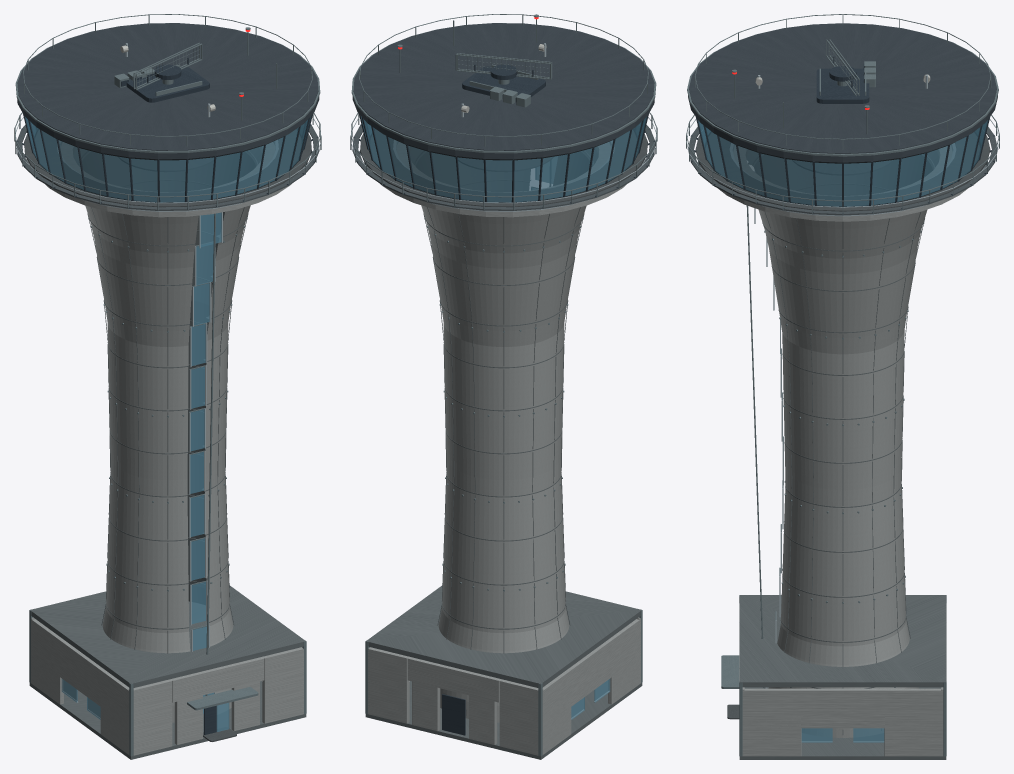
Rendered from AIR04_lod2.glb.
3 renders of one model, left to right at view 1: azimuth 30°, elevation 25°; view 2: azimuth 150°, elevation 25°; view 3: azimuth 270°, elevation 25°, orthographic. The views are drawn at different scales.
Visible parts, largest first — view 1: Structure__reinforced_concrete, Roof__roof_membrane, Facade__glass, Structure__concrete_dark, Roof__concrete_dark, Interior__dark_floor, Facade__concrete_dark, Roof__steel_highlight, Details__steel_highlight, Structure__grating, Facade__anodized_aluminum, Facade__painted_steel (+4 smaller); view 2: Structure__reinforced_concrete, Roof__roof_membrane, Facade__glass, Roof__concrete_dark, Interior__dark_floor, Facade__concrete_dark, Structure__concrete_dark, Roof__steel_highlight, Details__steel_highlight, Structure__grating, Facade__painted_steel, Roof__painted_steel (+3 smaller); view 3: Structure__reinforced_concrete, Roof__roof_membrane, Facade__glass, Roof__concrete_dark, Structure__concrete_dark, Interior__dark_floor, Facade__concrete_dark, Roof__steel_highlight, Details__steel_highlight, Structure__grating, Facade__painted_steel, Roof__painted_steel (+4 smaller).
Boxes of the visible parts, x1=… form: Structure__reinforced_concrete: x1=31, y1=142, x2=303, y2=755; Roof__roof_membrane: x1=17, y1=23, x2=319, y2=159; Facade__glass: x1=25, y1=116, x2=310, y2=719; Structure__concrete_dark: x1=29, y1=147, x2=306, y2=759; Roof__concrete_dark: x1=30, y1=585, x2=305, y2=687; Interior__dark_floor: x1=24, y1=130, x2=311, y2=207; Facade__concrete_dark: x1=78, y1=151, x2=257, y2=653; Roof__steel_highlight: x1=15, y1=14, x2=320, y2=710; Details__steel_highlight: x1=14, y1=27, x2=321, y2=756; Structure__grating: x1=16, y1=125, x2=319, y2=210; Facade__anodized_aluminum: x1=62, y1=212, x2=222, y2=718; Facade__painted_steel: x1=23, y1=114, x2=312, y2=202; Structure__reinforced_concrete: x1=368, y1=142, x2=640, y2=755; Roof__roof_membrane: x1=352, y1=23, x2=654, y2=159; Facade__glass: x1=361, y1=116, x2=646, y2=719; Roof__concrete_dark: x1=366, y1=585, x2=641, y2=687; Interior__dark_floor: x1=360, y1=130, x2=647, y2=207; Facade__concrete_dark: x1=414, y1=151, x2=593, y2=715; Structure__concrete_dark: x1=365, y1=147, x2=642, y2=759; Roof__steel_highlight: x1=351, y1=14, x2=656, y2=153; Details__steel_highlight: x1=350, y1=14, x2=657, y2=756; Structure__grating: x1=352, y1=125, x2=655, y2=210; Facade__painted_steel: x1=359, y1=114, x2=648, y2=202; Roof__painted_steel: x1=462, y1=64, x2=545, y2=101; Structure__reinforced_concrete: x1=718, y1=145, x2=967, y2=756; Roof__roof_membrane: x1=688, y1=23, x2=997, y2=162; Facade__glass: x1=698, y1=120, x2=987, y2=742; Roof__concrete_dark: x1=739, y1=595, x2=946, y2=687; Structure__concrete_dark: x1=739, y1=151, x2=946, y2=759; Interior__dark_floor: x1=695, y1=132, x2=990, y2=211; Facade__concrete_dark: x1=748, y1=154, x2=934, y2=734; Roof__steel_highlight: x1=687, y1=14, x2=998, y2=688; Details__steel_highlight: x1=686, y1=41, x2=999, y2=756; Structure__grating: x1=688, y1=126, x2=997, y2=215; Facade__painted_steel: x1=696, y1=117, x2=989, y2=206; Roof__painted_steel: x1=816, y1=56, x2=869, y2=103.
Size of the model in its own units: 24.32 by 56.13 by 24.32.
Materials: 12 (12 with a texture image).
